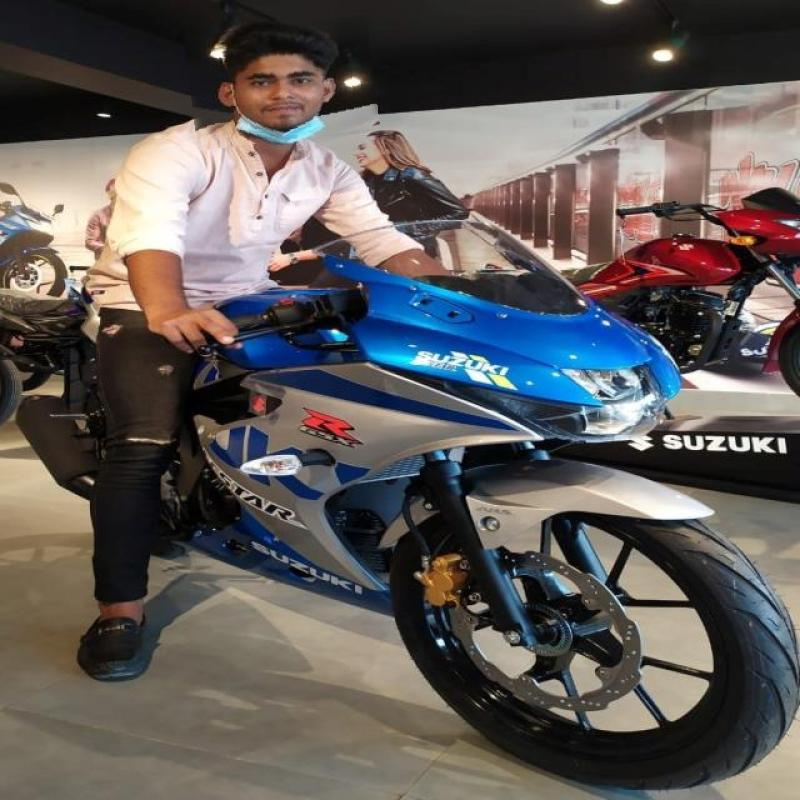nohelmet: (187, 19, 377, 146)
